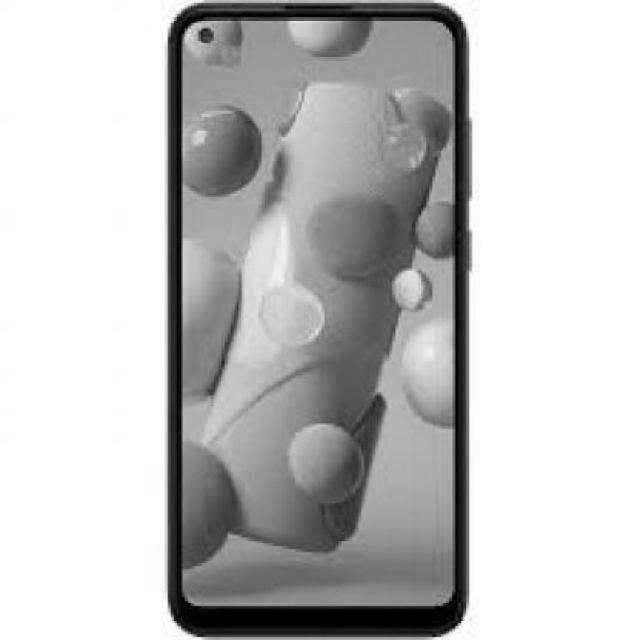fake: (168, 3, 470, 637)
